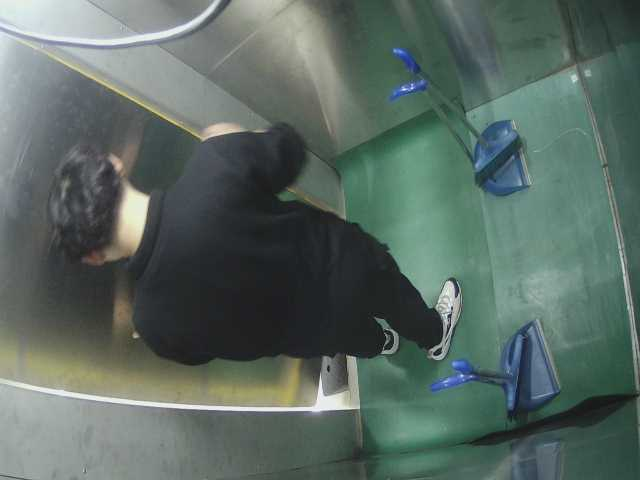broom: (370, 44, 547, 202), (398, 313, 567, 424)
person: (39, 115, 460, 363)
